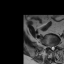CCS_normal: (51, 44, 53, 52)
LFS_stenosis: (55, 43, 57, 48)
LLS_normal: (53, 44, 55, 51)
RFS_stenosis: (48, 44, 50, 49)
RLS_normal: (50, 44, 51, 50)
